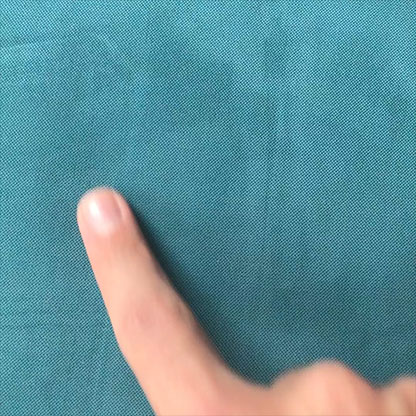fingertip: (58, 173, 147, 250)
